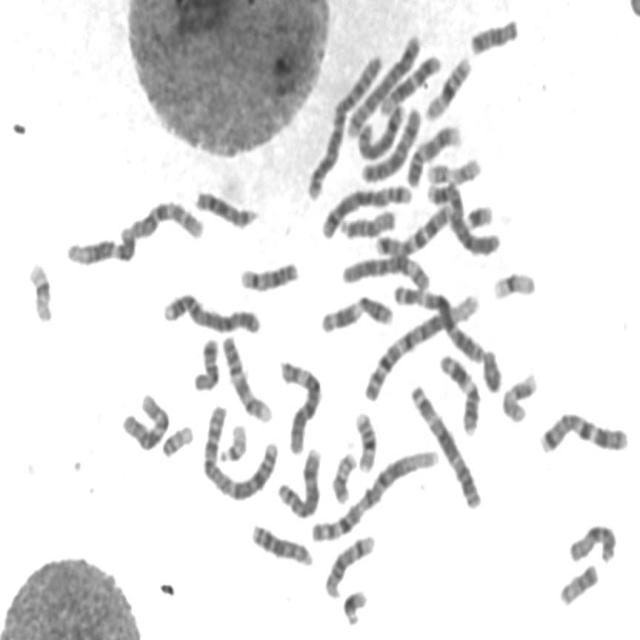A1: (359, 286, 482, 403), (305, 443, 441, 544)
A2: (302, 48, 384, 201), (198, 397, 281, 503)
A3: (406, 377, 484, 512), (390, 277, 486, 363)
B4: (423, 174, 503, 258), (158, 286, 263, 336)
B5: (342, 26, 422, 138), (316, 177, 415, 241)
C10: (125, 194, 206, 244), (117, 385, 172, 454)
C11: (435, 346, 482, 437), (316, 290, 396, 334)
C12: (375, 47, 444, 117), (62, 220, 138, 268)
C6: (274, 352, 325, 457), (338, 246, 434, 292)
C7: (370, 198, 455, 259), (535, 405, 632, 455)
C8: (272, 440, 324, 520), (353, 97, 408, 162)
C9: (218, 328, 274, 424), (403, 118, 464, 188)
D13: (247, 516, 314, 568), (191, 183, 259, 230)
D14: (321, 528, 378, 600), (236, 254, 300, 294)
D15: (564, 516, 620, 566), (334, 202, 398, 240)
E16: (421, 49, 474, 121), (350, 404, 380, 474)
E17: (497, 366, 539, 424), (422, 150, 484, 187)
E18: (466, 10, 521, 57), (189, 332, 221, 393)
F19: (24, 255, 56, 324), (488, 264, 539, 302)
F20: (558, 564, 600, 608), (328, 445, 358, 506)
G21: (338, 583, 369, 627), (462, 197, 495, 231)
G22: (157, 417, 196, 459), (215, 417, 249, 465)
X: (356, 100, 424, 184)
Y: (478, 342, 504, 394)
